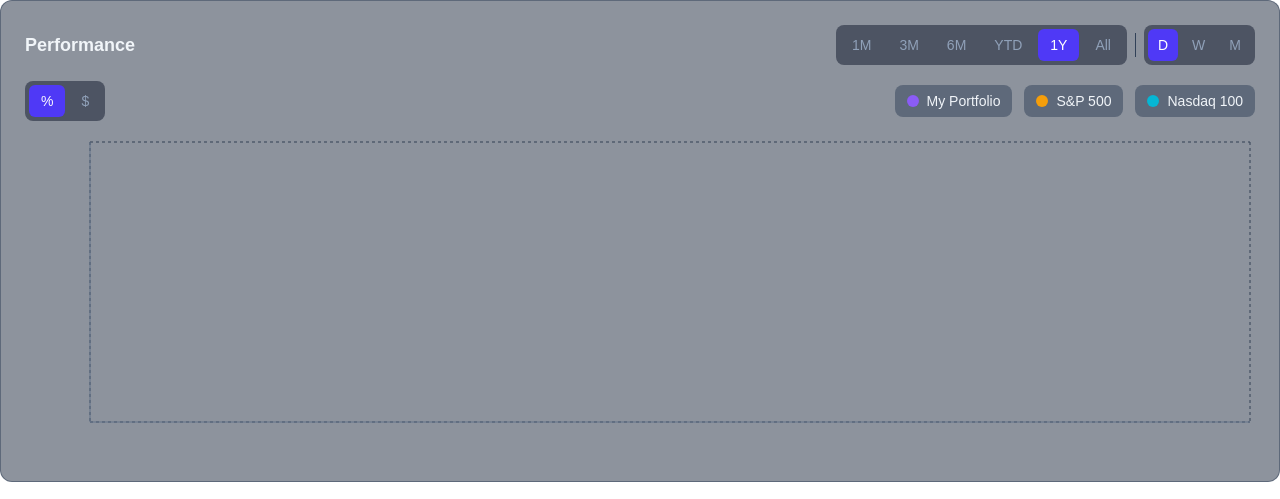
PerformanceChart › Component rendering › hides benchmark toggles in absolute mode
The image size is (1280, 499).
Expected: the text "S&P 500" is shown, [1056, 91, 1112, 111]
Expected: the text "Nasdaq 100" is shown, [1168, 91, 1243, 111]
Switch to absolute mode
Step 1. Click the button "$" → (85, 101), box [70, 85, 101, 117]
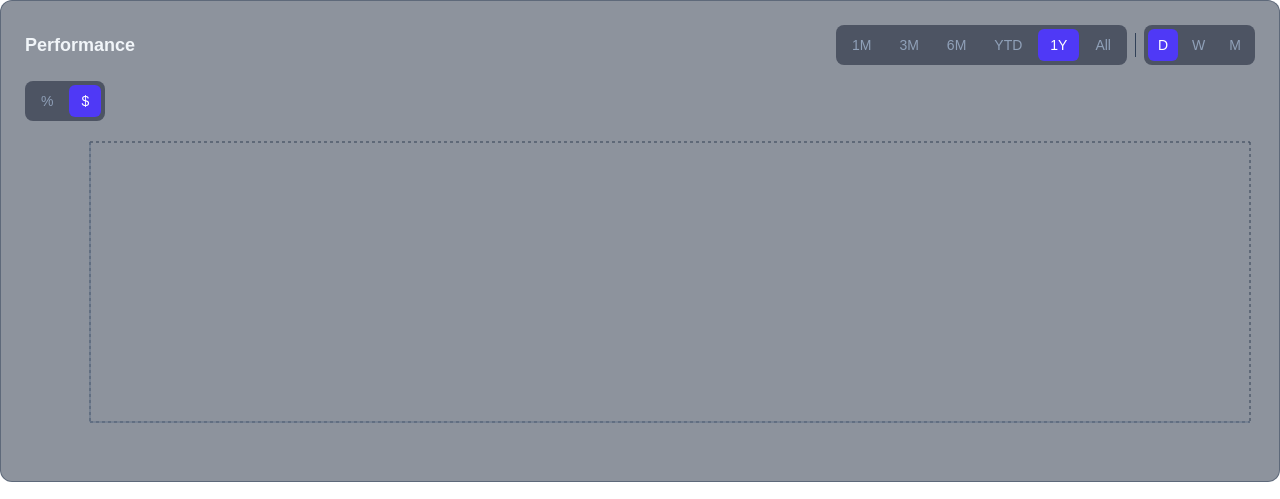
Expected: the button "S&P 500" is gone
Expected: the button "Nasdaq 100" is gone
